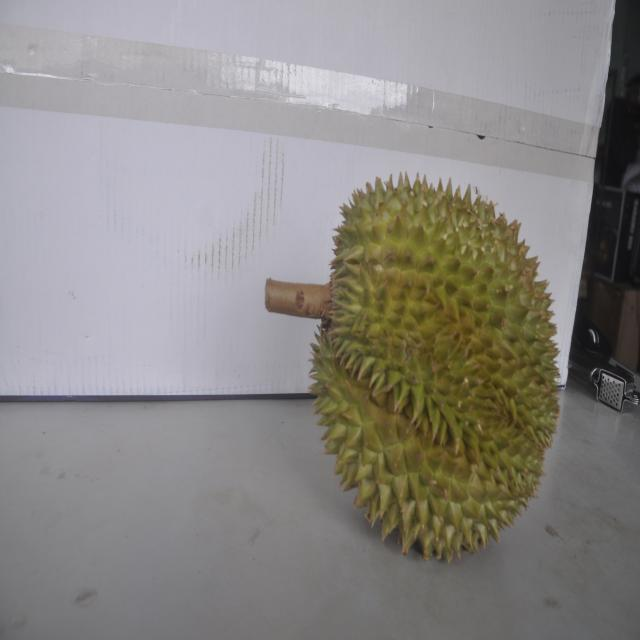mature: (314, 170, 563, 557)
